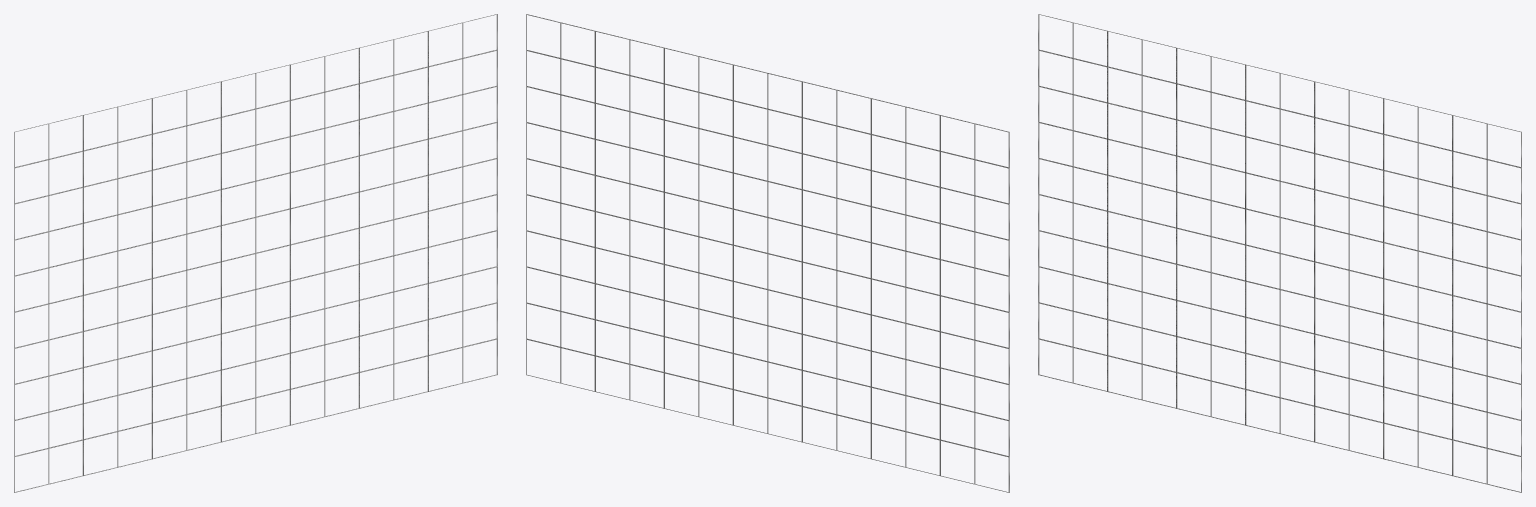
The model's file is Ceiling_0.obj.
3 views of the same model, side by side, from view 1: azimuth 30°, elevation 25°; view 2: azimuth 150°, elevation 25°; view 3: azimuth 330°, elevation 25° (orthographic).
Size of the model in its own units: 8.53 by 6.1 by 0.00762.
